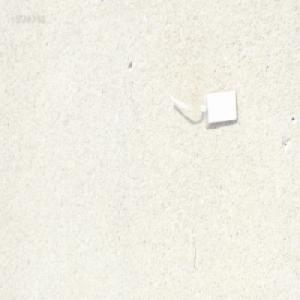LuggageTag: (167, 84, 239, 127)
